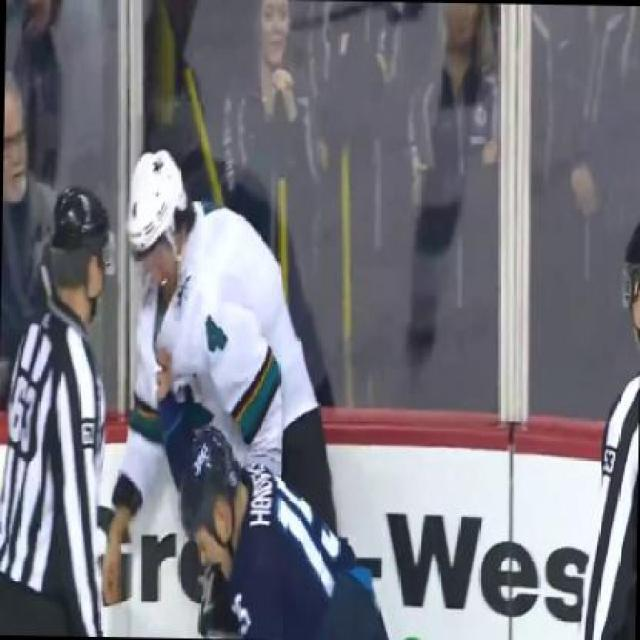fight: (114, 147, 398, 638)
non-fight: (0, 178, 115, 636), (210, 0, 324, 186)
